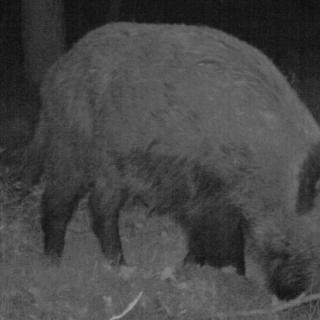Pig: (7, 14, 320, 295)
